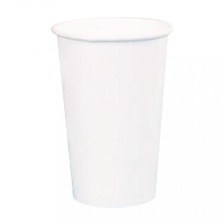paper_cup: (46, 9, 178, 211)
